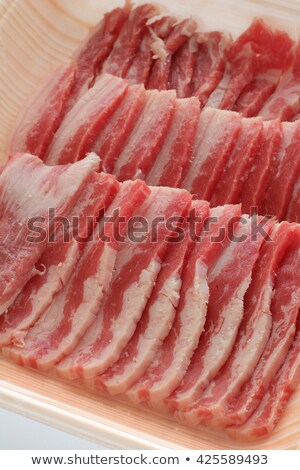bacon: (8, 149, 300, 388), (56, 76, 294, 226)
